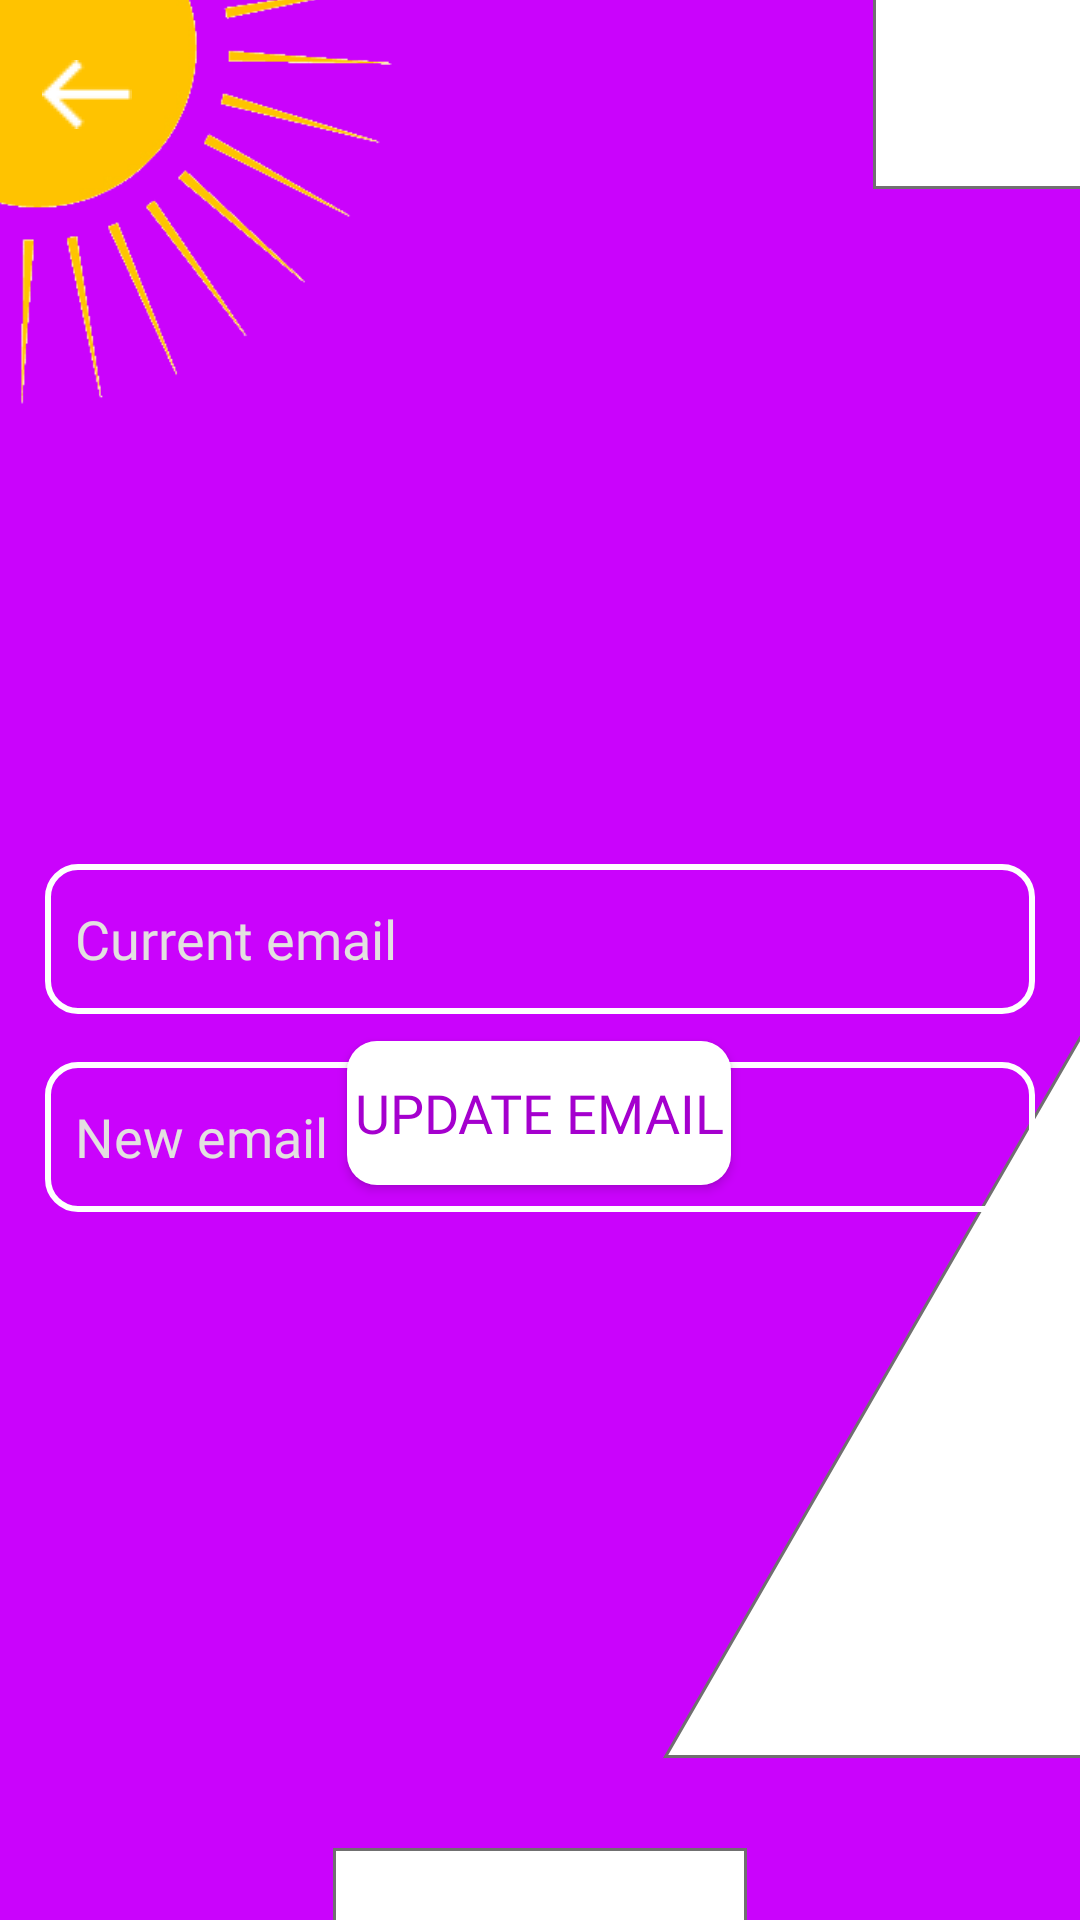

Where to tap for icons on this 1080 x 1920 app screen, as point (x, y):
back arrow: point (87, 94)
